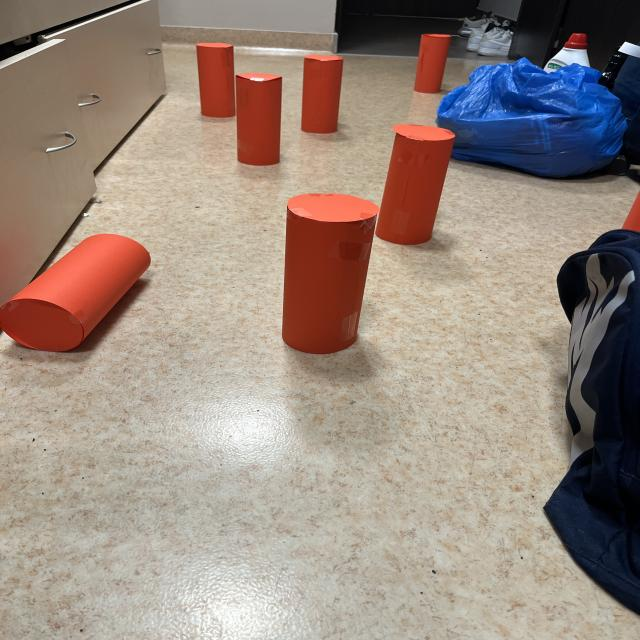przeszkoda: (0, 234, 150, 351), (282, 193, 380, 354), (376, 125, 453, 244), (234, 73, 282, 165), (301, 54, 343, 133), (197, 43, 234, 117), (414, 34, 450, 93)
